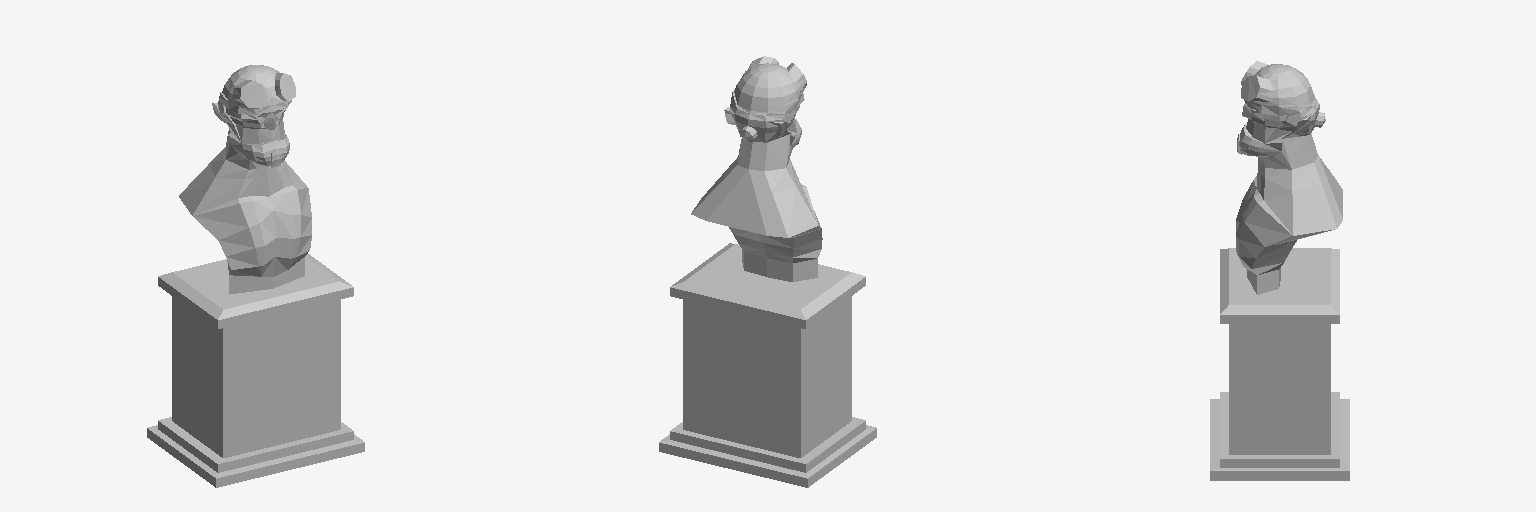
Rendered from HellBoy2.obj.
3 renders of one model, left to right at view 1: azimuth 30°, elevation 25°; view 2: azimuth 150°, elevation 25°; view 3: azimuth 270°, elevation 25°, orthographic.
Visible parts, largest first — view 1: 4_CM, 1_Base, 3_ARM, 5_ABM; view 2: 4_CM, 1_Base, 3_ARM, 5_ABM; view 3: 1_Base, 4_CM, 3_ARM, 5_ABM.
Part boxes in pixels (x1,y1,x2,y2): 4_CM: (172,296,340,457); 1_Base: (179,65,311,294); 3_ARM: (158,254,353,328); 5_ABM: (147,417,364,487); 4_CM: (683,296,851,457); 1_Base: (691,56,822,281); 3_ARM: (670,243,865,328); 5_ABM: (659,417,876,487); 1_Base: (1236,61,1342,294); 4_CM: (1229,324,1330,454); 3_ARM: (1220,248,1339,323); 5_ABM: (1210,392,1349,480).
Bounding box in the file's own units: 3.96 × 9.56 × 3.2.